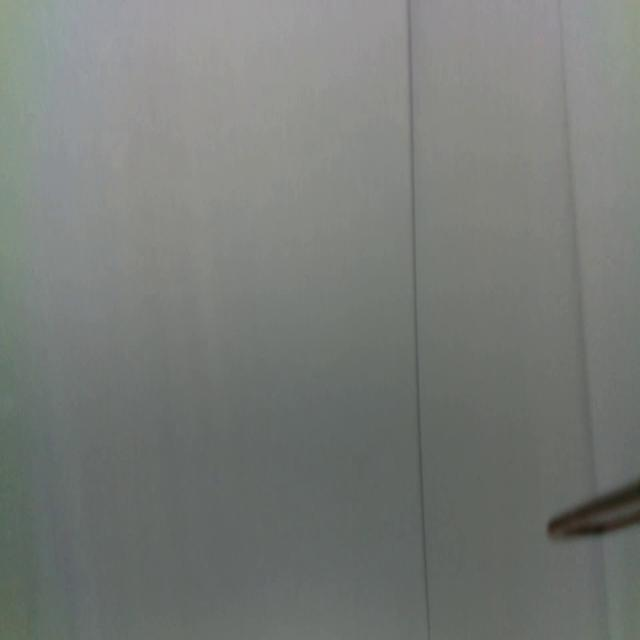crease: (557, 0, 598, 494), (406, 0, 432, 636)
